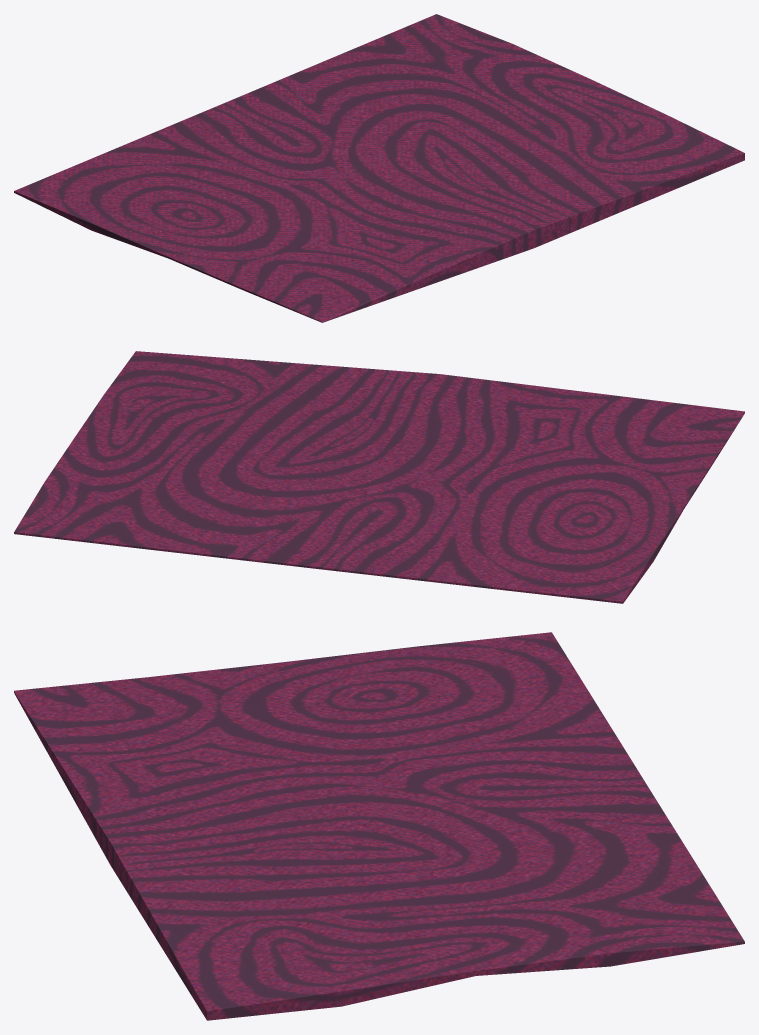
File: rug.fbx
3 renders of one model, top to bottom at view 1: azimuth 30°, elevation 25°; view 2: azimuth 150°, elevation 25°; view 3: azimuth 270°, elevation 25°, orthographic. The views are drawn at different scales.
Visible parts, largest first — view 1: rug; view 2: rug; view 3: rug.
Boxes of the visible parts, bbox=[...] form: rug: bbox=[14, 14, 744, 322]; rug: bbox=[14, 351, 744, 603]; rug: bbox=[14, 632, 744, 1020].
Size of the model in its own units: 435 by 14.94 by 364.
1 material, 1 textured.
